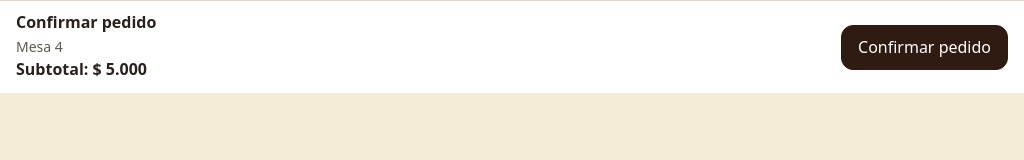
Test: ConfirmarPedido › muestra el error de la API y conserva el carrito
Click the button "Confirmar pedido". click: click(924, 47)
box: [841,24,1008,70]
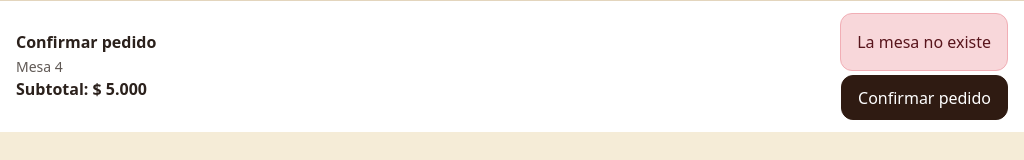
Expected: the message reads "La mesa no existe", [857,31,991,53]
